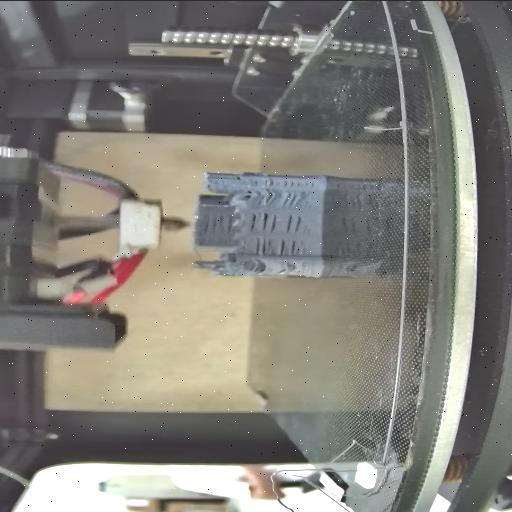cracks: (198, 212, 230, 234), (252, 212, 276, 234), (284, 214, 310, 234), (258, 179, 318, 187), (282, 190, 305, 210), (278, 238, 306, 254), (256, 188, 276, 206), (254, 238, 272, 256), (228, 174, 243, 180)
